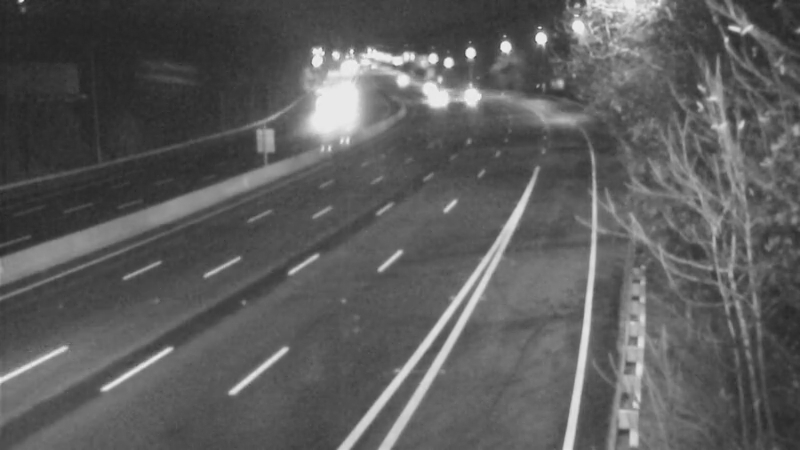vehicle: (374, 56, 424, 106), (399, 65, 449, 115), (443, 67, 493, 117), (409, 73, 459, 123), (302, 92, 352, 142)
